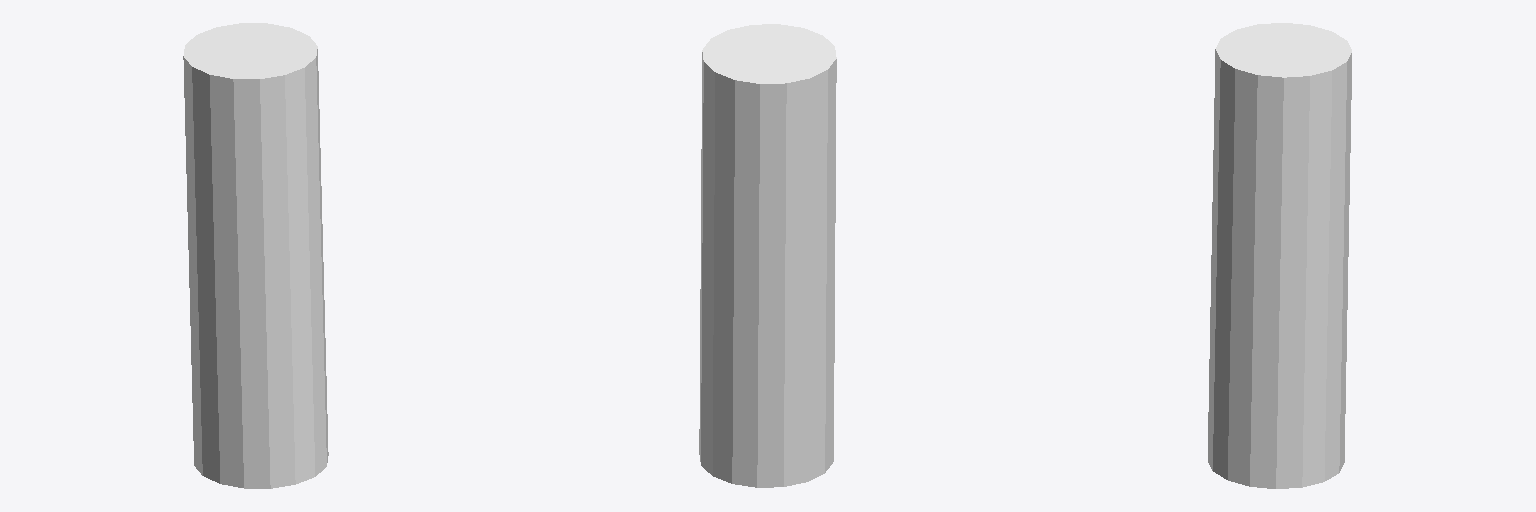
Rendered from bougie.obj.
3 renders of one model, left to right at view 1: azimuth 30°, elevation 25°; view 2: azimuth 150°, elevation 25°; view 3: azimuth 270°, elevation 25°, orthographic.
Parts seen in each view (by area): view 1: WSVCylinder_3; view 2: WSVCylinder_3; view 3: WSVCylinder_3.
Part boxes in pixels (bbox=[...]): WSVCylinder_3: bbox=[183, 23, 328, 488]; WSVCylinder_3: bbox=[699, 24, 836, 487]; WSVCylinder_3: bbox=[1208, 23, 1351, 488].
Size of the model in its own units: 0.322 by 1.02 by 0.3259.